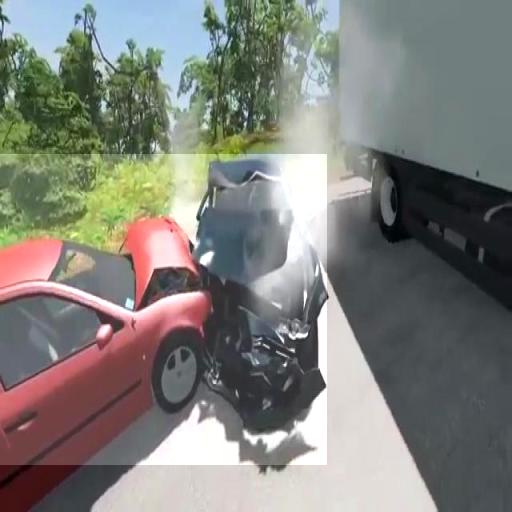小汽车撞小汽车: (0, 154, 327, 465)
